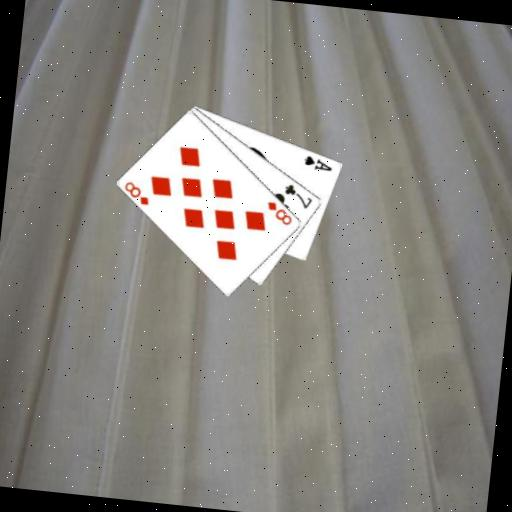7C: (281, 181, 316, 211)
8D: (262, 197, 295, 227), (120, 177, 153, 207)
AS: (301, 152, 335, 173)
